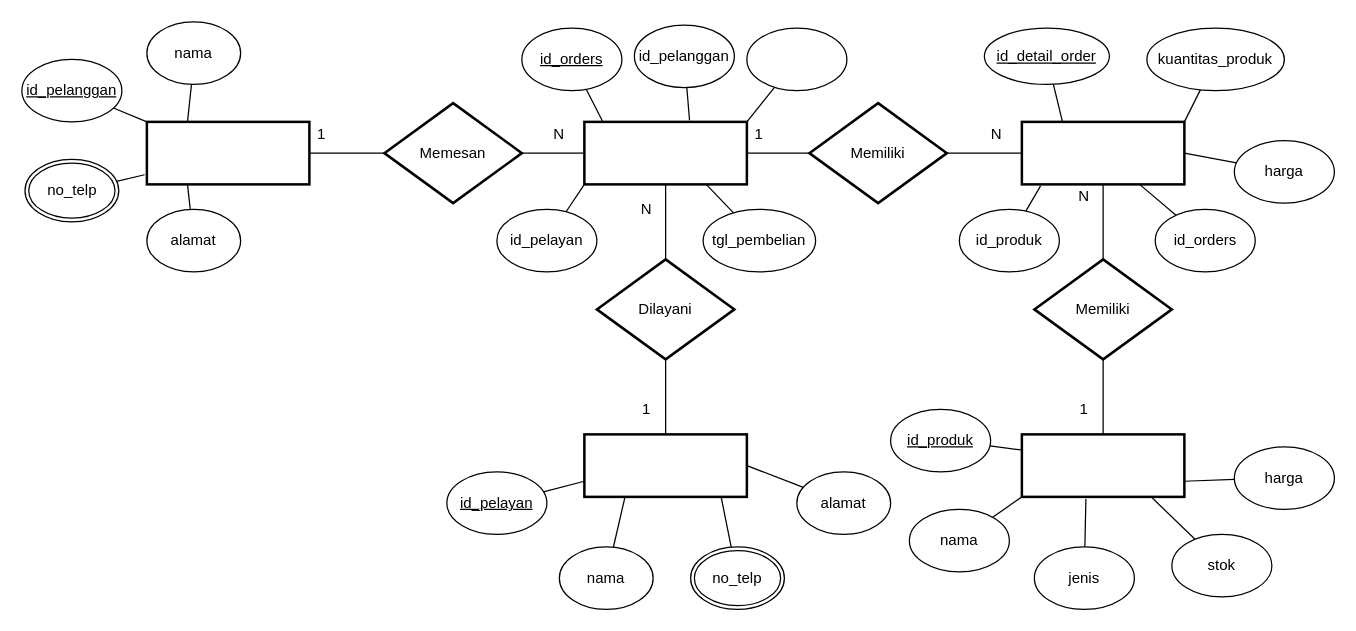
Some shapes in this 1356 by 631 pixel diagram are drawn without their labels. Each missing label, with the centre of its shape:
"Detail Order" belongs at point (1102, 152).
"Order" belongs at point (665, 152).
"Pelanggan" belongs at point (227, 152).
"Pelayan" belongs at point (665, 465).
"Produk" belongs at point (1102, 465).
"total" belongs at point (796, 59).
